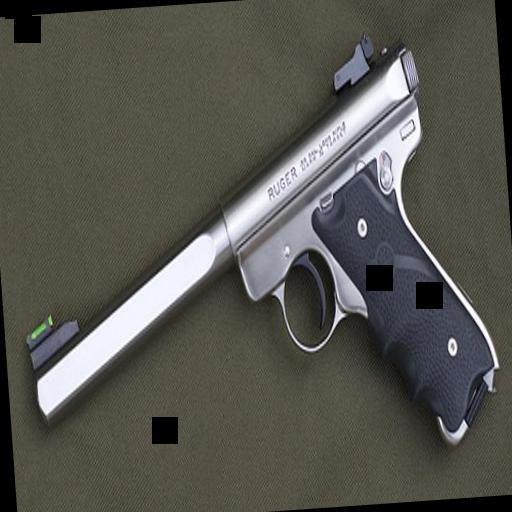Handgun: (4, 24, 502, 475)
